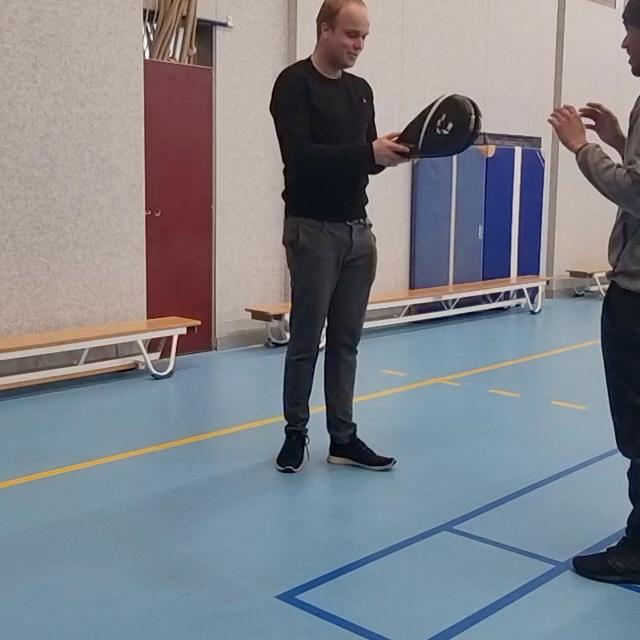paddle: (390, 94, 489, 156)
